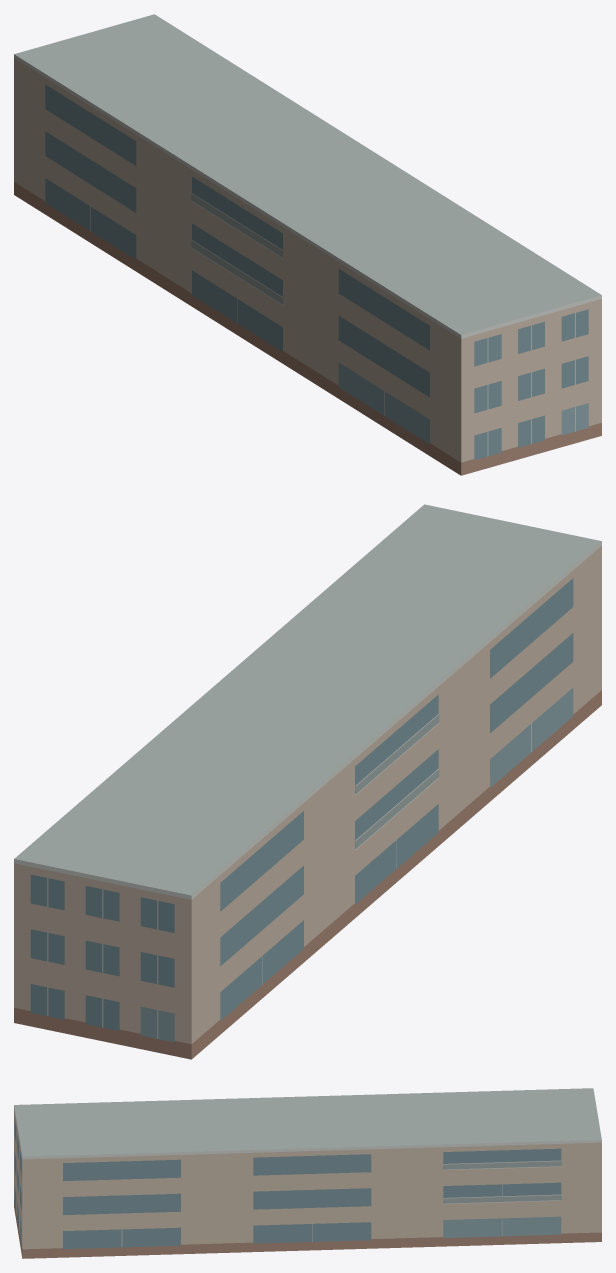
File: residential-9b92d4bd-1994-462f-b830-991e79686487.glb
3 renders of one model, top to bottom at view 1: azimuth 30°, elevation 25°; view 2: azimuth 150°, elevation 25°; view 3: azimuth 270°, elevation 25°, orthographic. The views are drawn at different scales.
Parts seen in each view (by area): view 1: residential-9b92d4bd-1994-462f-b830-991e79686487.tmp; view 2: residential-9b92d4bd-1994-462f-b830-991e79686487.tmp; view 3: residential-9b92d4bd-1994-462f-b830-991e79686487.tmp.
Boxes of the visible parts, left/top/right/bottom form: residential-9b92d4bd-1994-462f-b830-991e79686487.tmp: left=14, top=14, right=601, bottom=475; residential-9b92d4bd-1994-462f-b830-991e79686487.tmp: left=14, top=504, right=601, bottom=1059; residential-9b92d4bd-1994-462f-b830-991e79686487.tmp: left=14, top=1088, right=601, bottom=1258.
Size of the model in its own units: 13.22 by 9.15 by 47.8.
